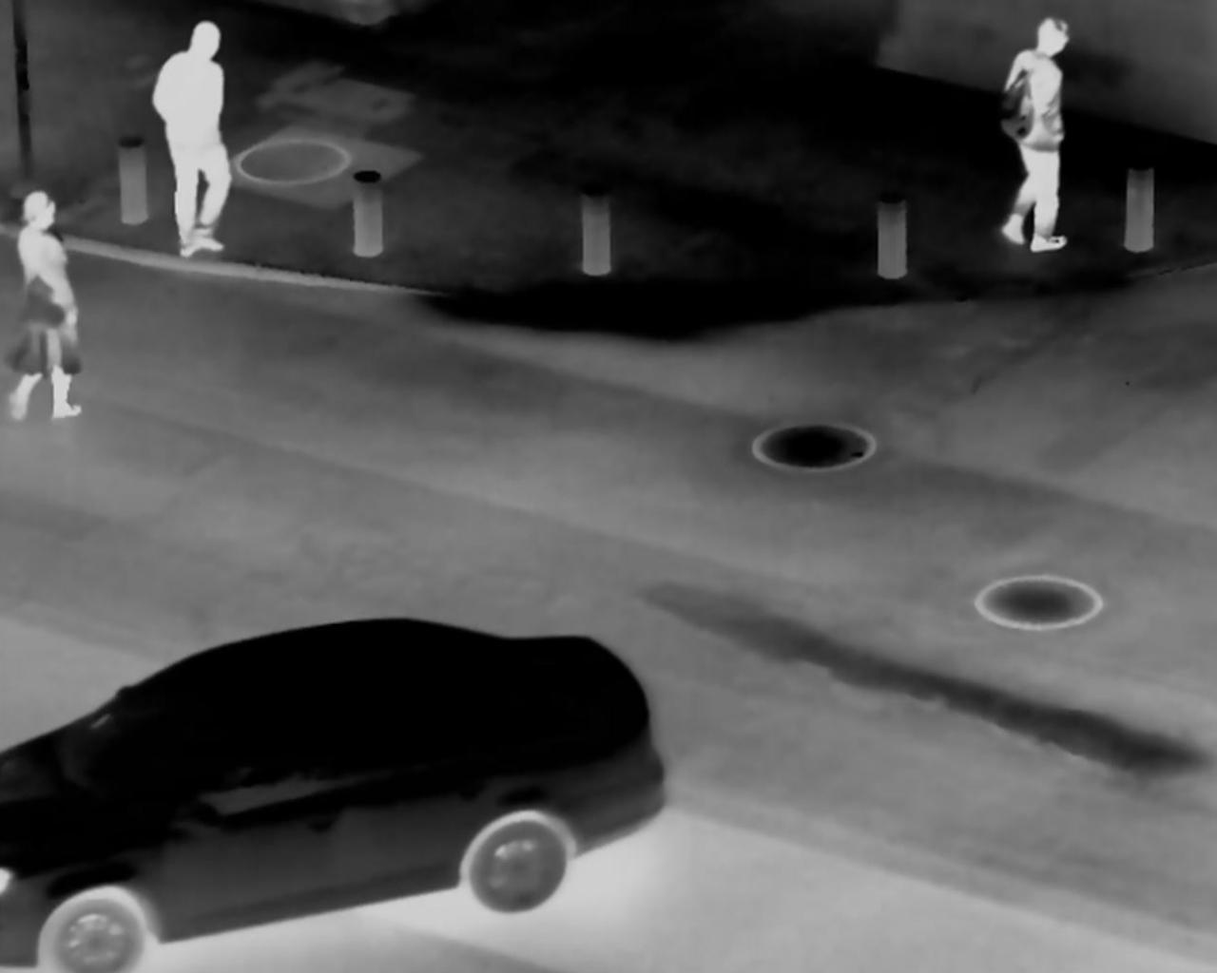person: (145, 16, 248, 263), (990, 10, 1088, 252), (7, 189, 93, 432)
